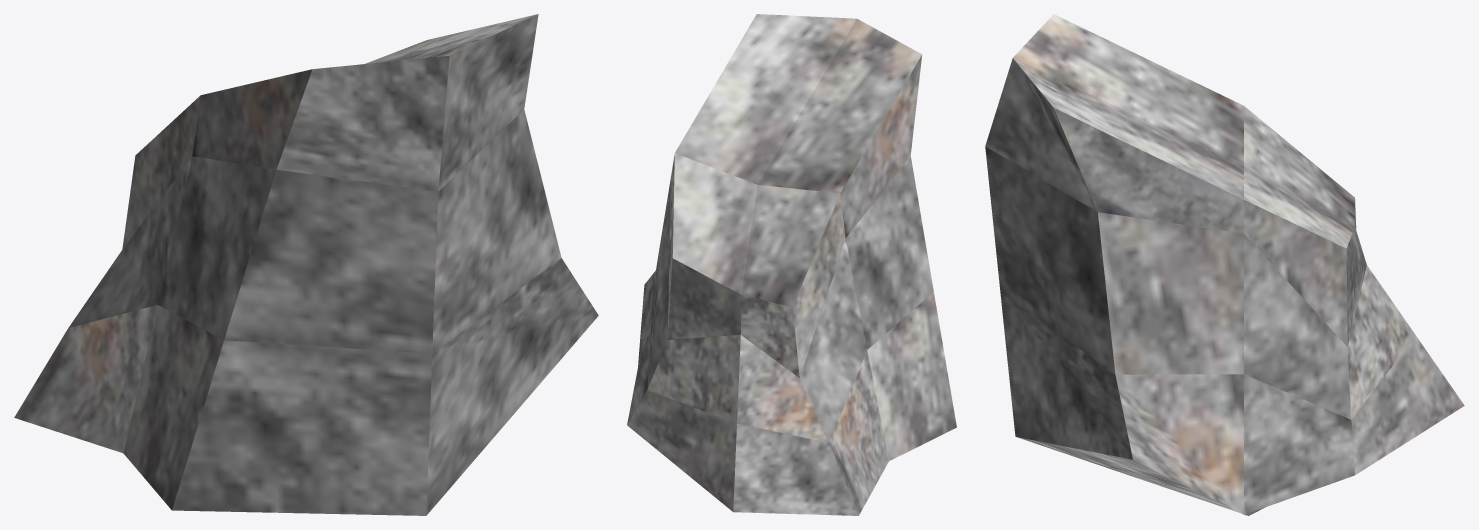
File: Stone_2.fbx
The picture shows the model from 3 angles, left to right: view 1: azimuth 30°, elevation 25°; view 2: azimuth 150°, elevation 25°; view 3: azimuth 270°, elevation 25°; orthographic projection. The views are drawn at different scales.
Visible parts, largest first — view 1: Cube.003; view 2: Cube.003; view 3: Cube.003.
Part boxes in pixels (left/top/right/bottom): Cube.003: left=14, top=14, right=598, bottom=515; Cube.003: left=627, top=14, right=956, bottom=515; Cube.003: left=985, top=14, right=1464, bottom=515.
Size of the model in its own units: 388 by 459 by 432.
Materials: 1 (1 with a texture image).
